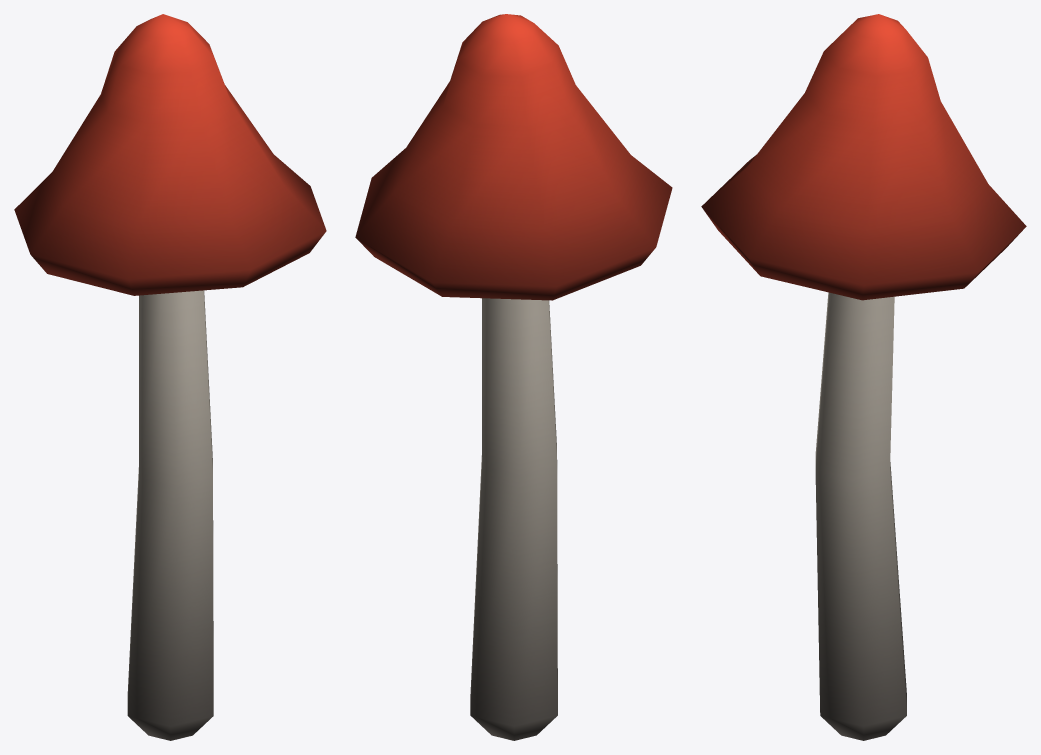
The model's file is SM_Mushroom_4.fbx.
3 renders of one model, left to right at view 1: azimuth 30°, elevation 25°; view 2: azimuth 150°, elevation 25°; view 3: azimuth 270°, elevation 25°, orthographic.
Parts seen in each view (by area): view 1: Mushroom_4; view 2: Mushroom_4; view 3: Mushroom_4.
Part boxes in pixels (box(x1,y1,x2,y2)): Mushroom_4: box(14, 14, 326, 740); Mushroom_4: box(355, 14, 672, 740); Mushroom_4: box(701, 14, 1026, 740).
Size of the model in its own units: 238 by 577 by 238.
1 material, 1 textured.
